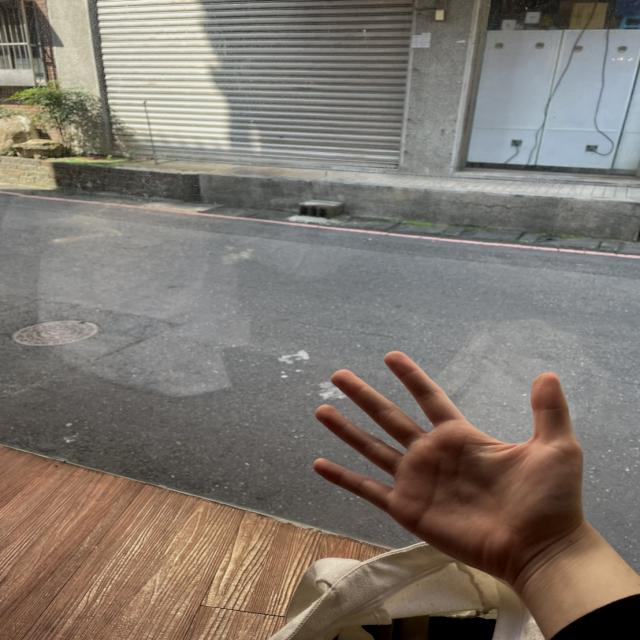no_glove: (291, 341, 599, 580)
